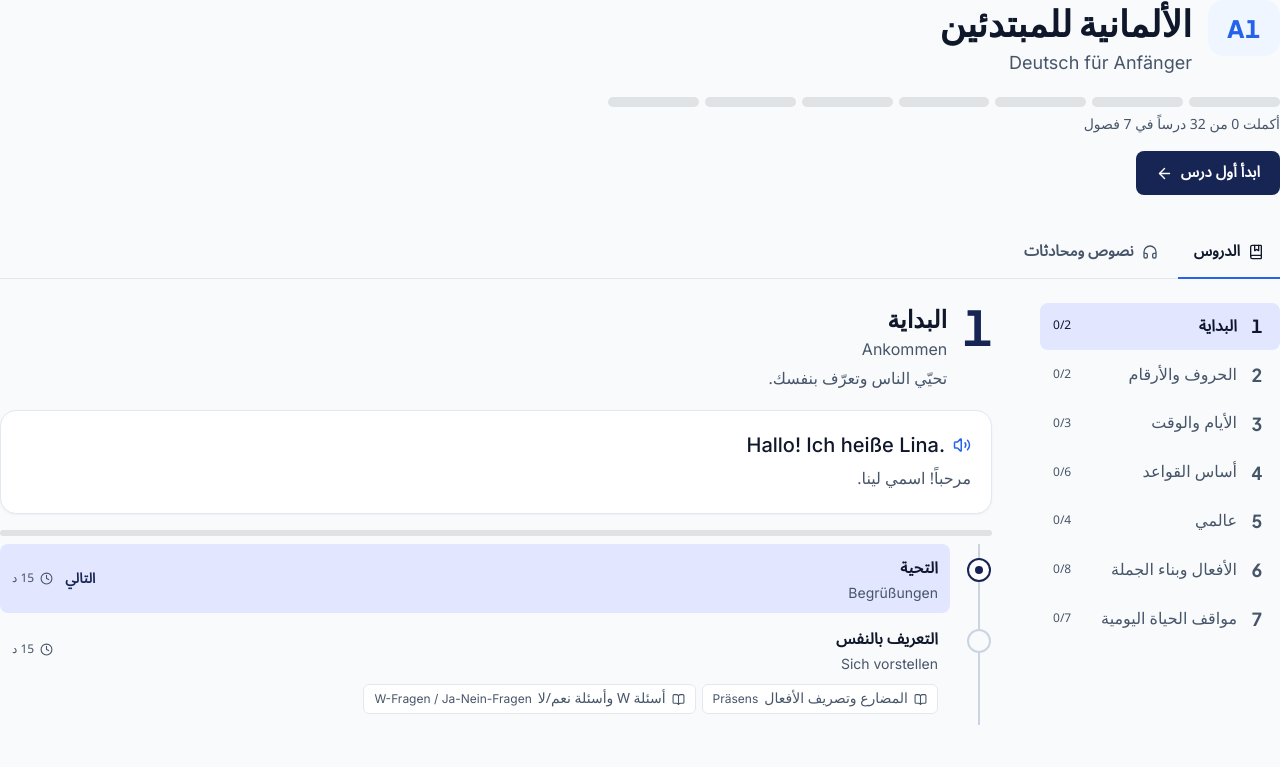
Test: level navigation › defaults to the Lessons tab and switches to the combined texts & conversations tab
Expected: the text "Begrüßungen" is shown, [848,584,938,601]
Click the tab "نصوص ومحادثات" at (1091, 253), box [1008,227,1174,279]
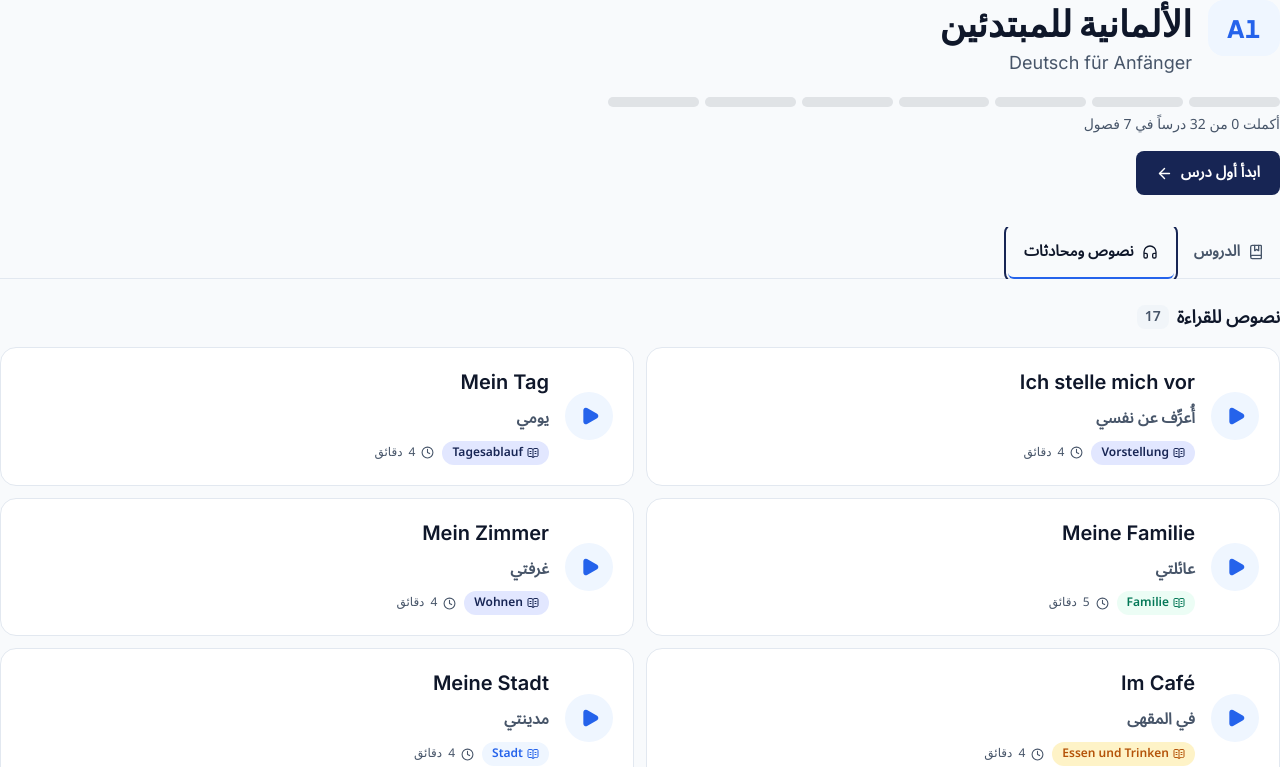
Expected: the link "Begrüßungen" is gone
Expected: the heading "نصوص للقراءة 17" is shown, [1137,298,1279,336]
Click the tab "الدروس" at (1229, 253), box [1178,227,1279,279]
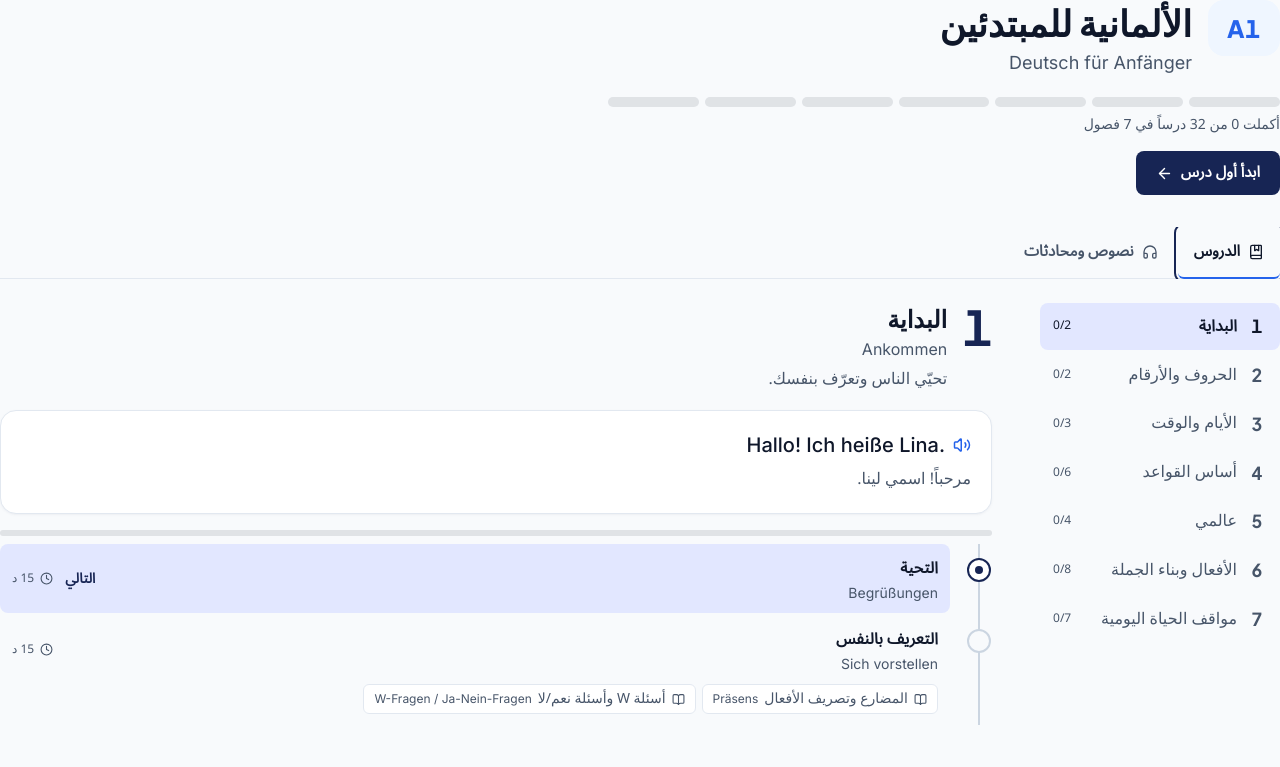
Expected: the text "Begrüßungen" is shown, [848,584,938,601]
